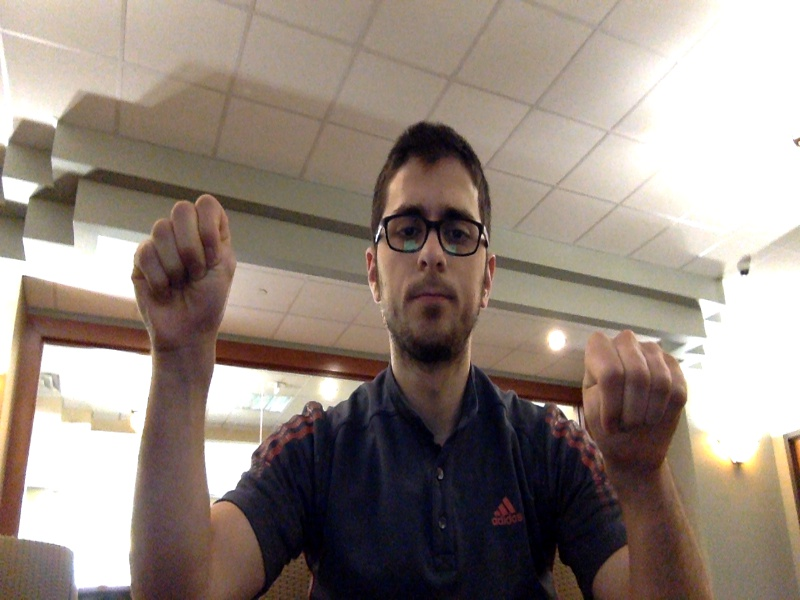0-hand: (132, 196, 236, 353), (583, 332, 686, 464)
